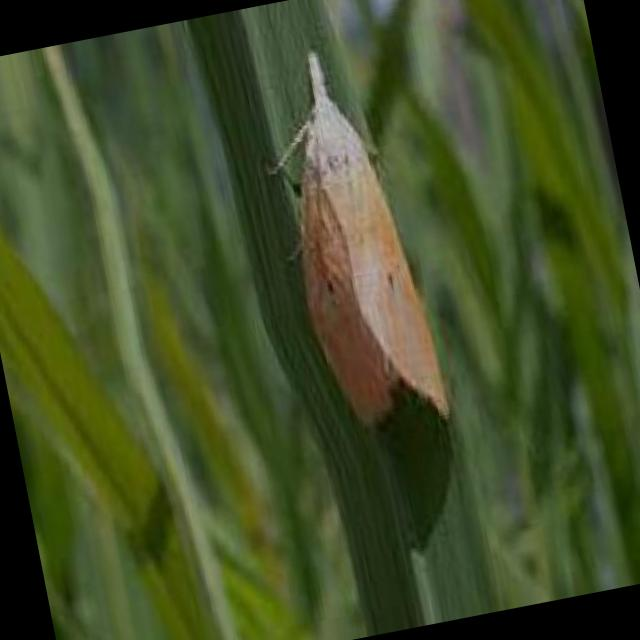stem-borer: (240, 33, 454, 448)
